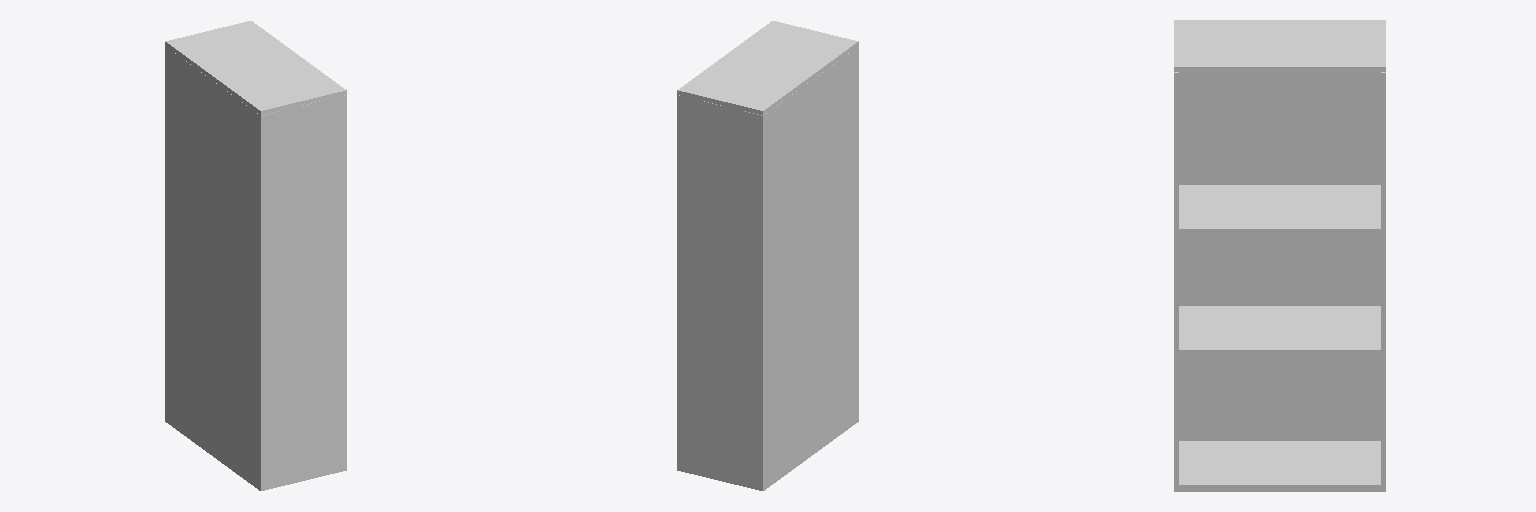
URDF robot description (room602-tableware-shelf2_fixed):
<?xml version="1.0"?>
<robot name="room602-tableware-shelf2_fixed"
       xmlns:xi="http://www.w3.org/2001/XInclude">
  <gazebo>
    <static>false</static>
  </gazebo>
  <link name="nil_link">
    <visual>
      <origin xyz="0 0 0" rpy="0 -0 0"/>
      <geometry>
        <mesh filename="model://room602-tableware-shelf2/meshes/nil_link_mesh.dae" scale="1 1 1" />
      </geometry>
    </visual>
    <collision>
      <origin xyz="0 0 0" rpy="0 -0 0"/>
      <geometry>
        <mesh filename="model://room602-tableware-shelf2/meshes/nil_link_mesh.dae" scale="1 1 1" />
      </geometry>
    </collision>
    <inertial>
      <mass value="0.001" />
      <origin xyz="0 0 0" rpy="0 -0 0"/>
      <inertia ixx="1e-03" ixy="0" ixz="0" iyy="1e-03" iyz="0" izz="1e-03"/>
    </inertial>
  </link>
  <gazebo reference="nil_link">
    <mu1>0.9</mu1>
    <mu2>0.9</mu2>
  </gazebo>
  <!-- Used for fixing robot to Gazebo 'base_link' -->
  <link name="world"/>
  <joint name="fixed" type="fixed">
    <parent link="world"/>
    <child link="nil_link"/>
  </joint>
</robot>

--- Render facts (derived) ---
Views: 3 orthographic renders of the robot side by side, from view 1: azimuth 30°, elevation 25°; view 2: azimuth 150°, elevation 25°; view 3: azimuth 270°, elevation 25°.
Robot: room602-tableware-shelf2_fixed — 2 links, 1 joints (1 fixed); root link world; default pose: all joints at 0.
Links seen in each view (by area): view 1: nil_link; view 2: nil_link; view 3: nil_link.
Link boxes in pixels (<box>): nil_link: <box>165,21,346,490</box>; nil_link: <box>677,21,858,490</box>; nil_link: <box>1174,20,1385,491</box>.
Bounding box of the posed robot: 0.39 × 0.75 × 1.65 m (x, y, z).
Meshes: 1 distinct files referenced, 1 mesh visuals loaded (1 Collada DAE).